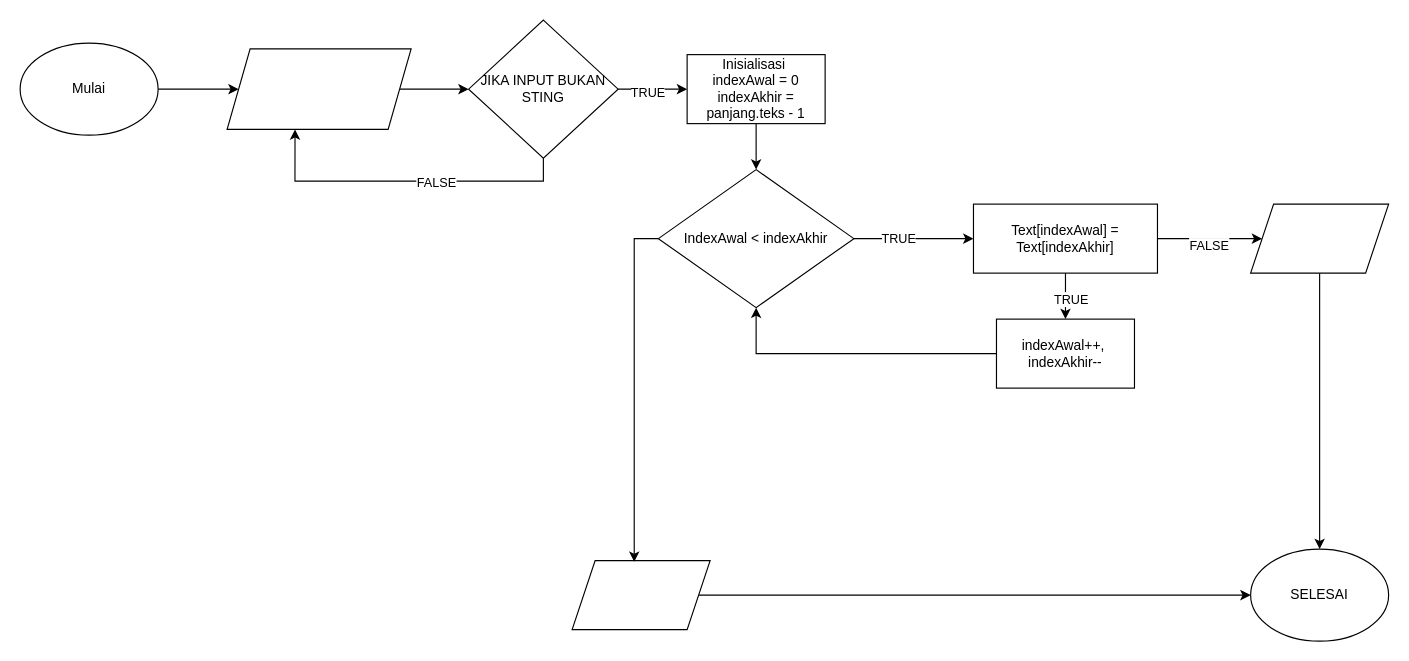
Image size: 1409x661. Some labels were removed from this diagram. Each missing label, with the centre of its shape:
"INPUT TEXT" belongs at [318,88].
"KATA ADALAH PALINDROM" belongs at [640,594].
"KATA BUKAN PALINDROM" belongs at [1319,238].
